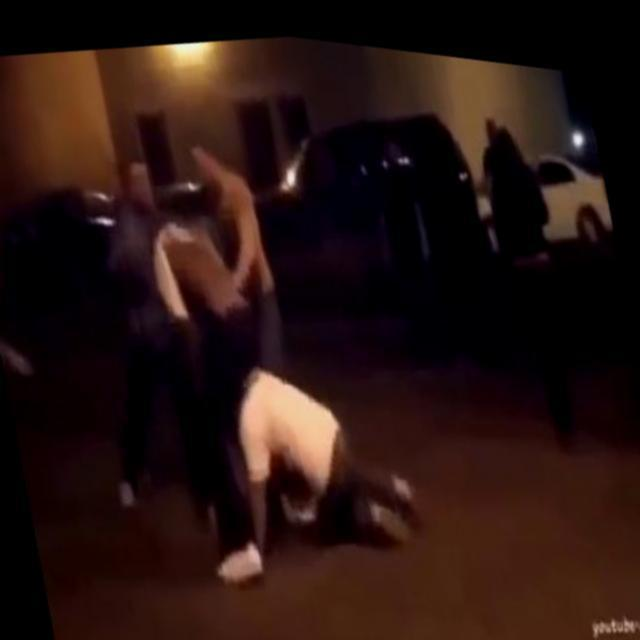fight: (178, 320, 428, 608)
